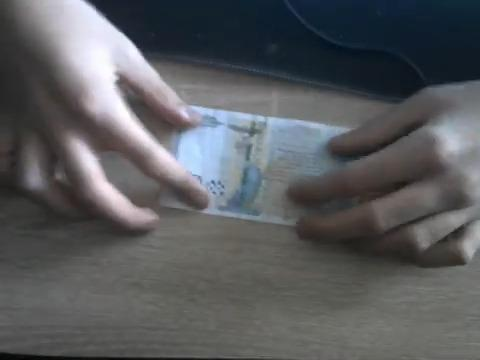20leva: (171, 107, 338, 226)
